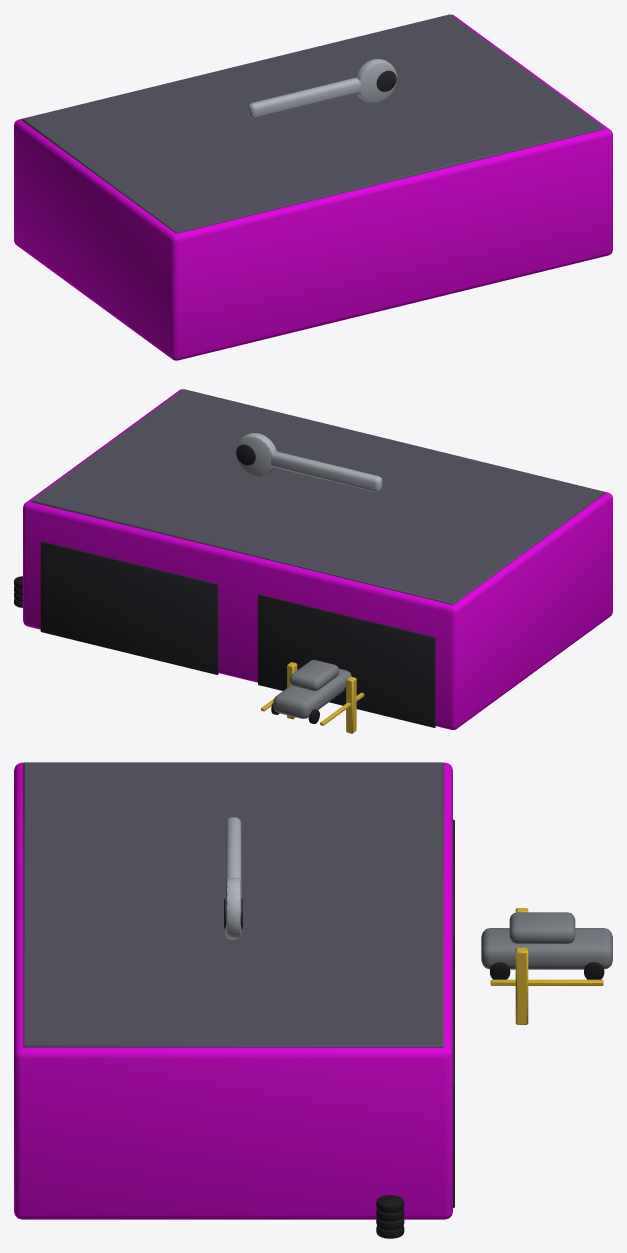
The model's file is Poi_ChopShop.fbx.
The picture shows the model from 3 angles, top to bottom: view 1: azimuth 30°, elevation 25°; view 2: azimuth 150°, elevation 25°; view 3: azimuth 270°, elevation 25°; orthographic projection. The views are drawn at different scales.
Visible parts, largest first — view 1: Poi_ChopShop; view 2: Poi_ChopShop; view 3: Poi_ChopShop.
Boxes of the visible parts, x1,y1,x2,y2 form: Poi_ChopShop: [14, 14, 612, 360]; Poi_ChopShop: [14, 389, 612, 733]; Poi_ChopShop: [14, 762, 612, 1238].
Size of the model in its own units: 23.44 by 8.34 by 19.1.
